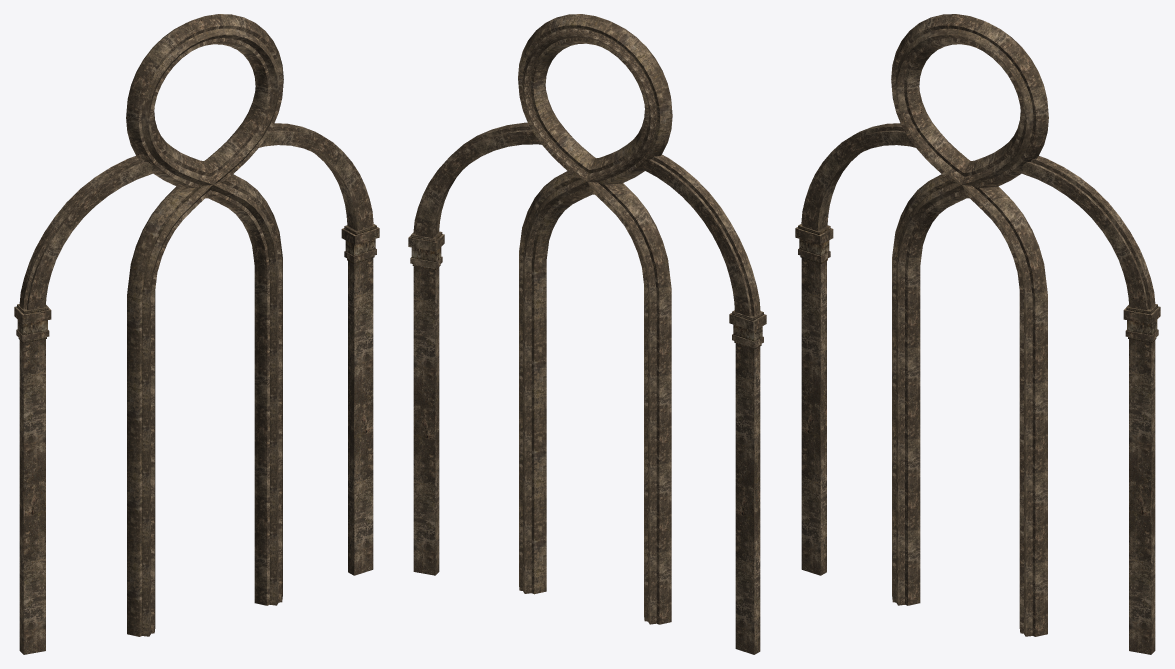
Rendered from materials_5_decoration_3.fbx.
The picture shows the model from 3 angles, left to right: view 1: azimuth 30°, elevation 25°; view 2: azimuth 150°, elevation 25°; view 3: azimuth 330°, elevation 25°; orthographic projection.
Visible parts, largest first — view 1: materials_5_decoration_3; view 2: materials_5_decoration_3; view 3: materials_5_decoration_3.
Part boxes in pixels (x1=…): materials_5_decoration_3: x1=14, y1=14, x2=379, y2=654; materials_5_decoration_3: x1=408, y1=14, x2=766, y2=654; materials_5_decoration_3: x1=795, y1=14, x2=1160, y2=654.
Size of the model in its own units: 216 by 347 by 23.81.
